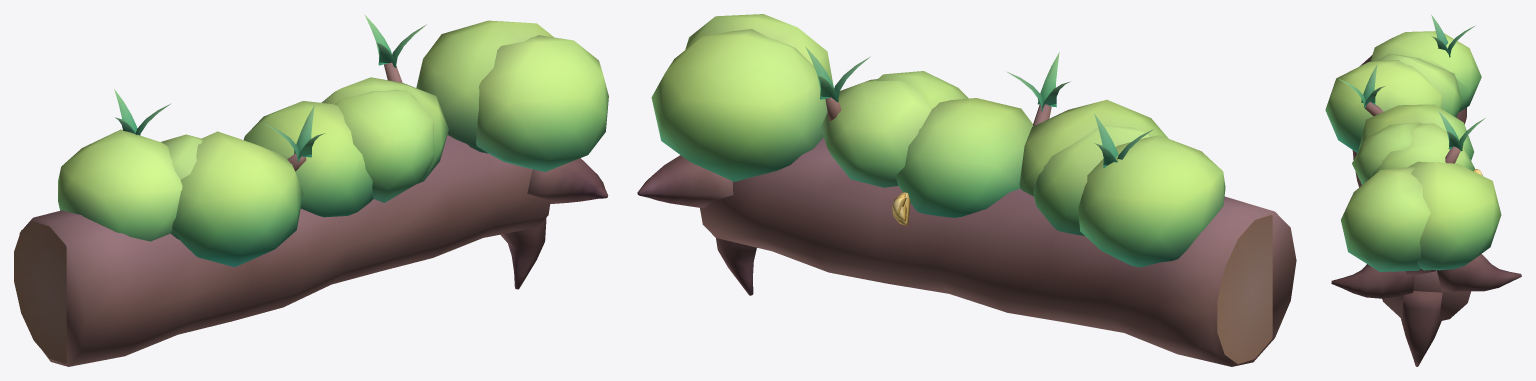
File: verdant_log_mossy.glb
The picture shows the model from 3 angles, left to right: view 1: azimuth 30°, elevation 25°; view 2: azimuth 150°, elevation 25°; view 3: azimuth 270°, elevation 25°; orthographic projection. The views are drawn at different scales.
Visible parts, largest first — view 1: verdant_log_mossy; view 2: verdant_log_mossy; view 3: verdant_log_mossy.
Part boxes in pixels (box(x1,y1,x2,y2)): verdant_log_mossy: box(14, 14, 608, 366); verdant_log_mossy: box(637, 14, 1296, 366); verdant_log_mossy: box(1325, 14, 1521, 366).
Bounding box in the file's own units: 4.51 × 2.12 × 1.81.
